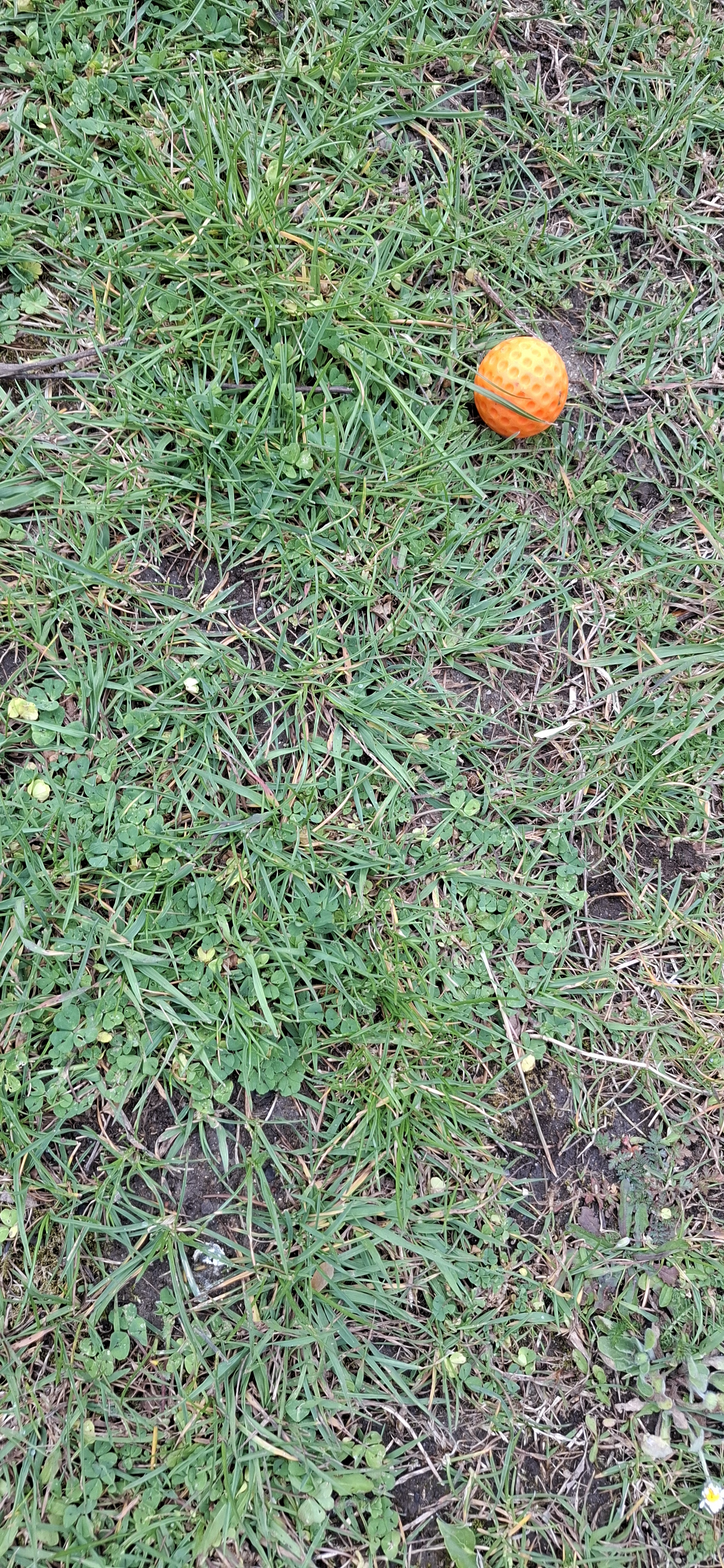ball: (154, 335, 203, 544)
